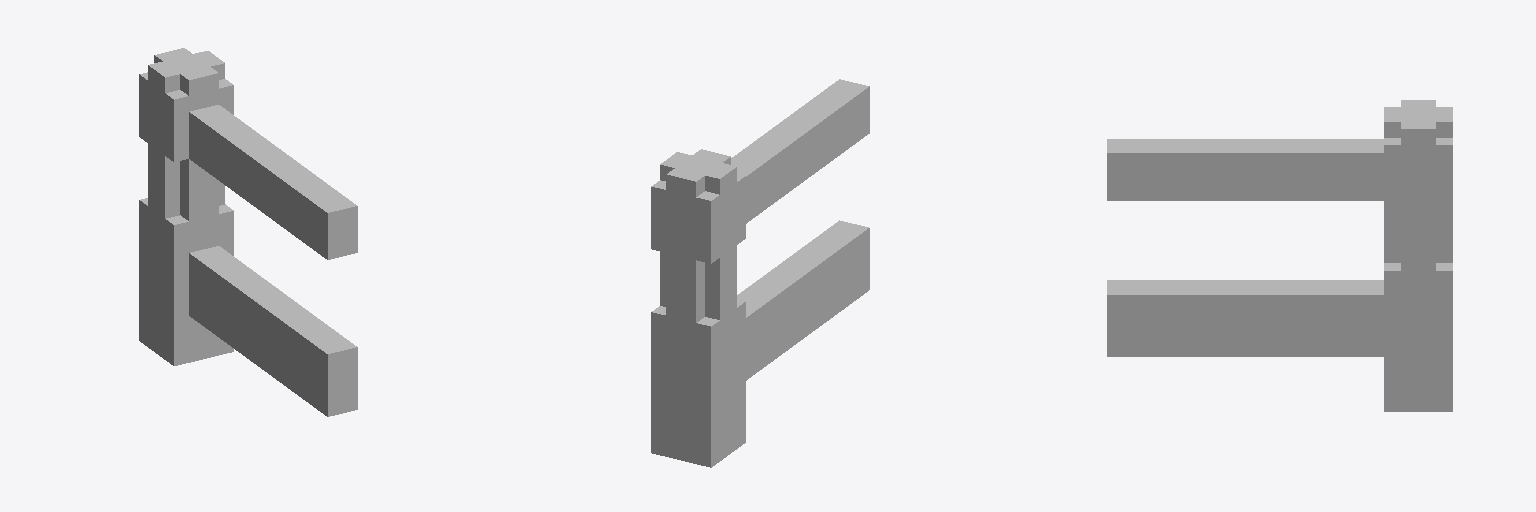
File: fence_part_2.obj
The picture shows the model from 3 angles: view 1: azimuth 30°, elevation 25°; view 2: azimuth 150°, elevation 25°; view 3: azimuth 270°, elevation 25°; orthographic projection.
Visible parts, largest first — view 1: Untitled; view 2: Untitled; view 3: Untitled.
Boxes of the visible parts, <box> form: Untitled: <box>139,48,357,416</box>; Untitled: <box>651,79,869,467</box>; Untitled: <box>1107,100,1452,411</box>.
Size of the model in its own units: 0.4 by 1.8 by 2.